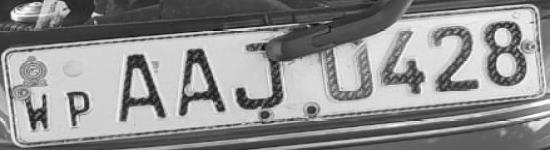0: (317, 32, 376, 103)
2: (428, 21, 482, 96)
4: (376, 24, 429, 100)
8: (481, 14, 531, 90)
A: (172, 44, 232, 121), (114, 51, 172, 123)
J: (232, 38, 287, 112)
P: (63, 86, 95, 131)
W: (19, 89, 54, 137)
